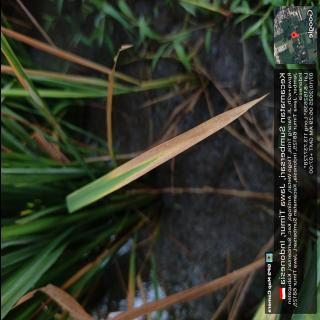Hawar-Daun: (108, 94, 268, 191)
